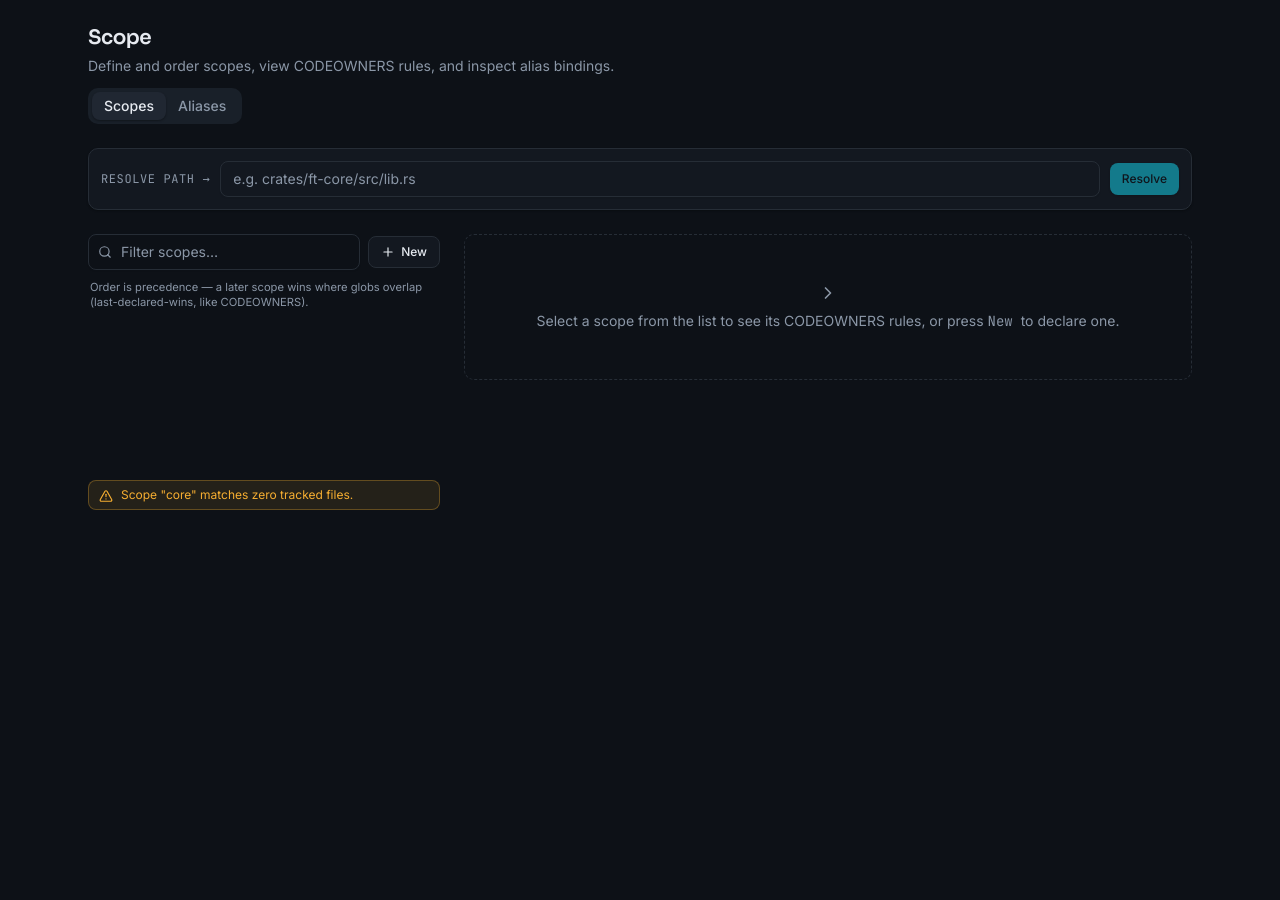
it: scope authoring › creates a scope: posts ScopeInput then refreshes the list
Click the button with test id "scope-create-open": (404, 252) [368,236,440,268]
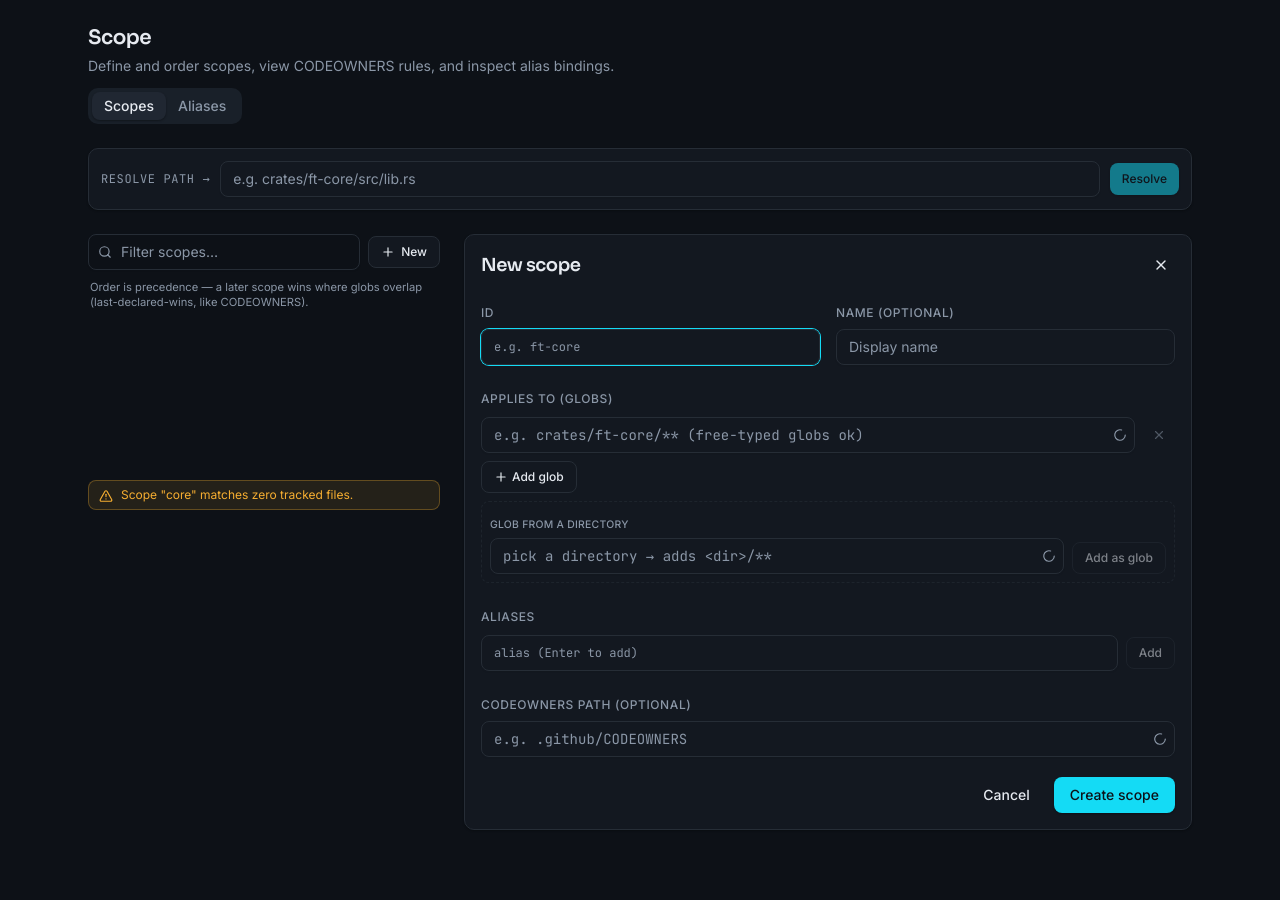
In the field with test id "scope-form-id": (650, 346) [481,328,820,364], type "api"
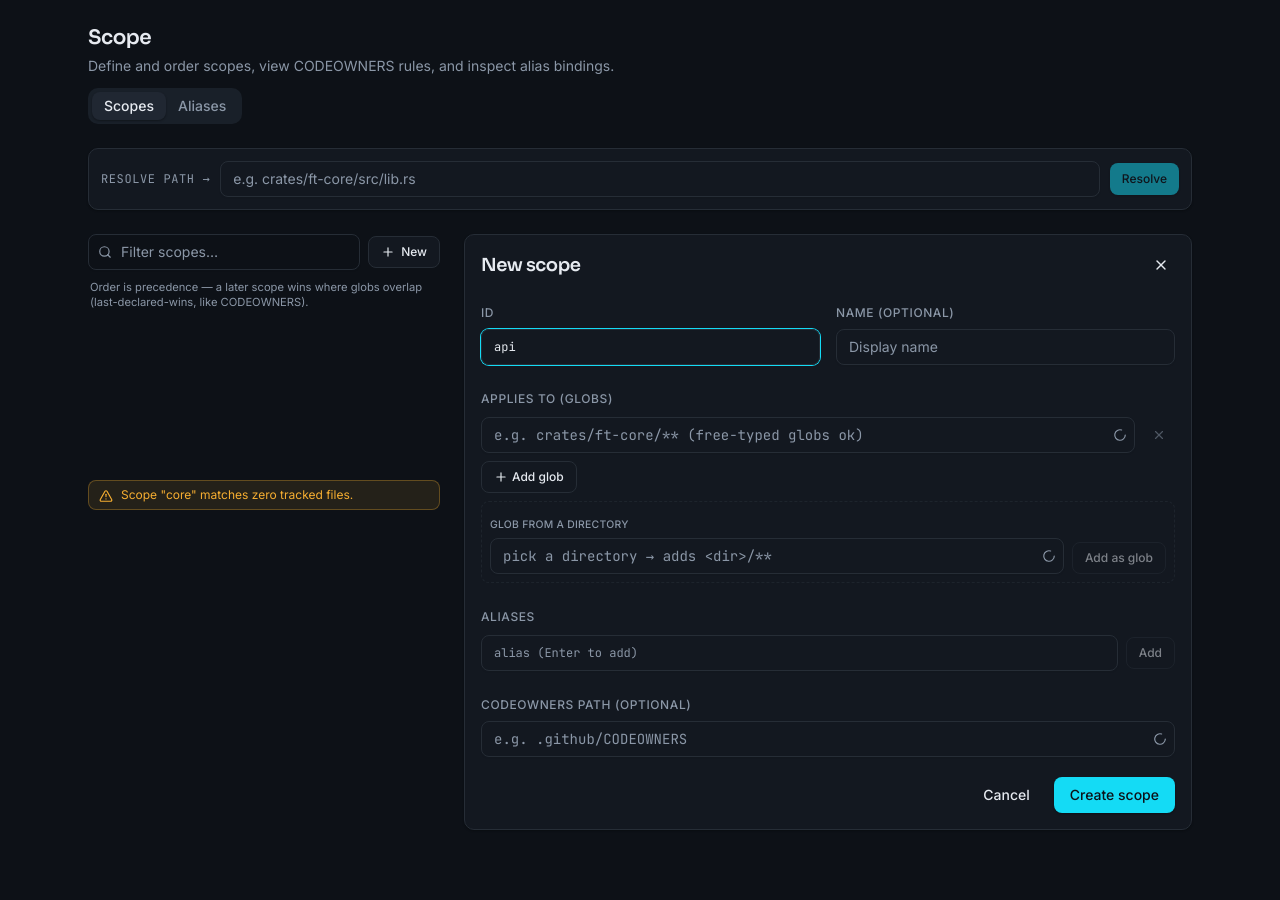
Note: First appliesTo row.
In the field with test id "scope-form-applies-to": (808, 434) [481,416,1135,452], type "crates/ft-api/**"
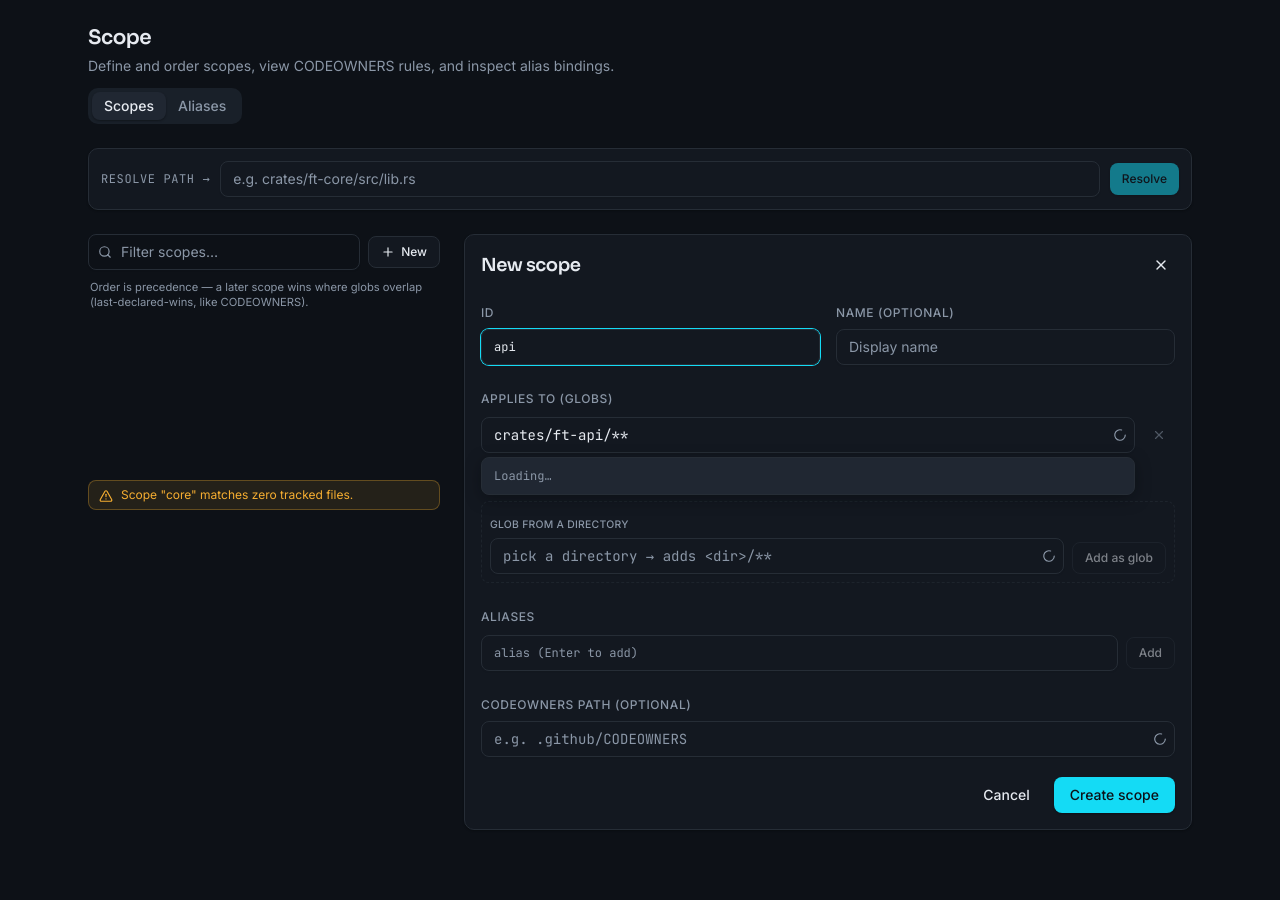
Click the button with test id "scope-form-submit": (1114, 794) [1054,776,1175,812]
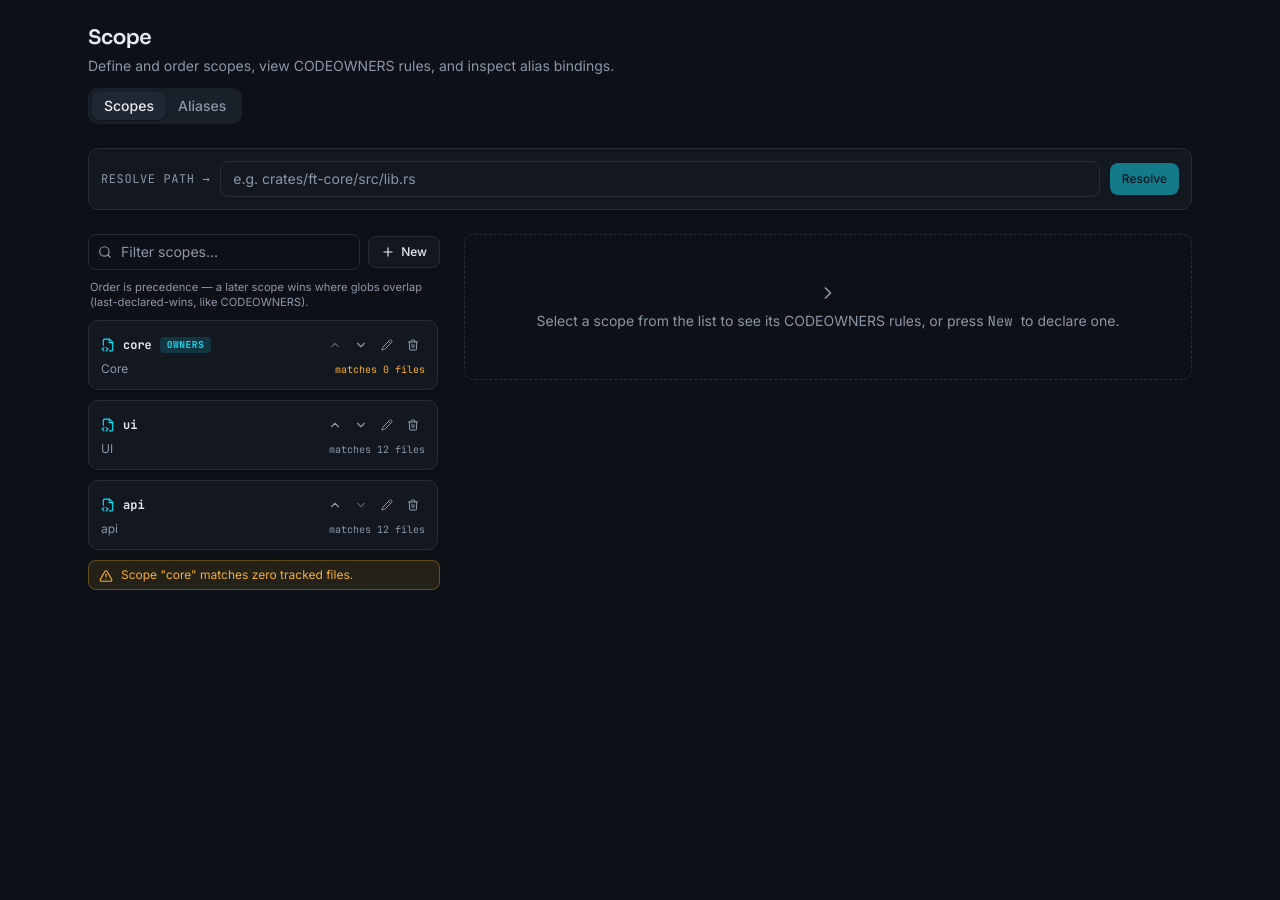
expect the list with test id "scope-list" shows "api": met, box [101,497,315,513]
